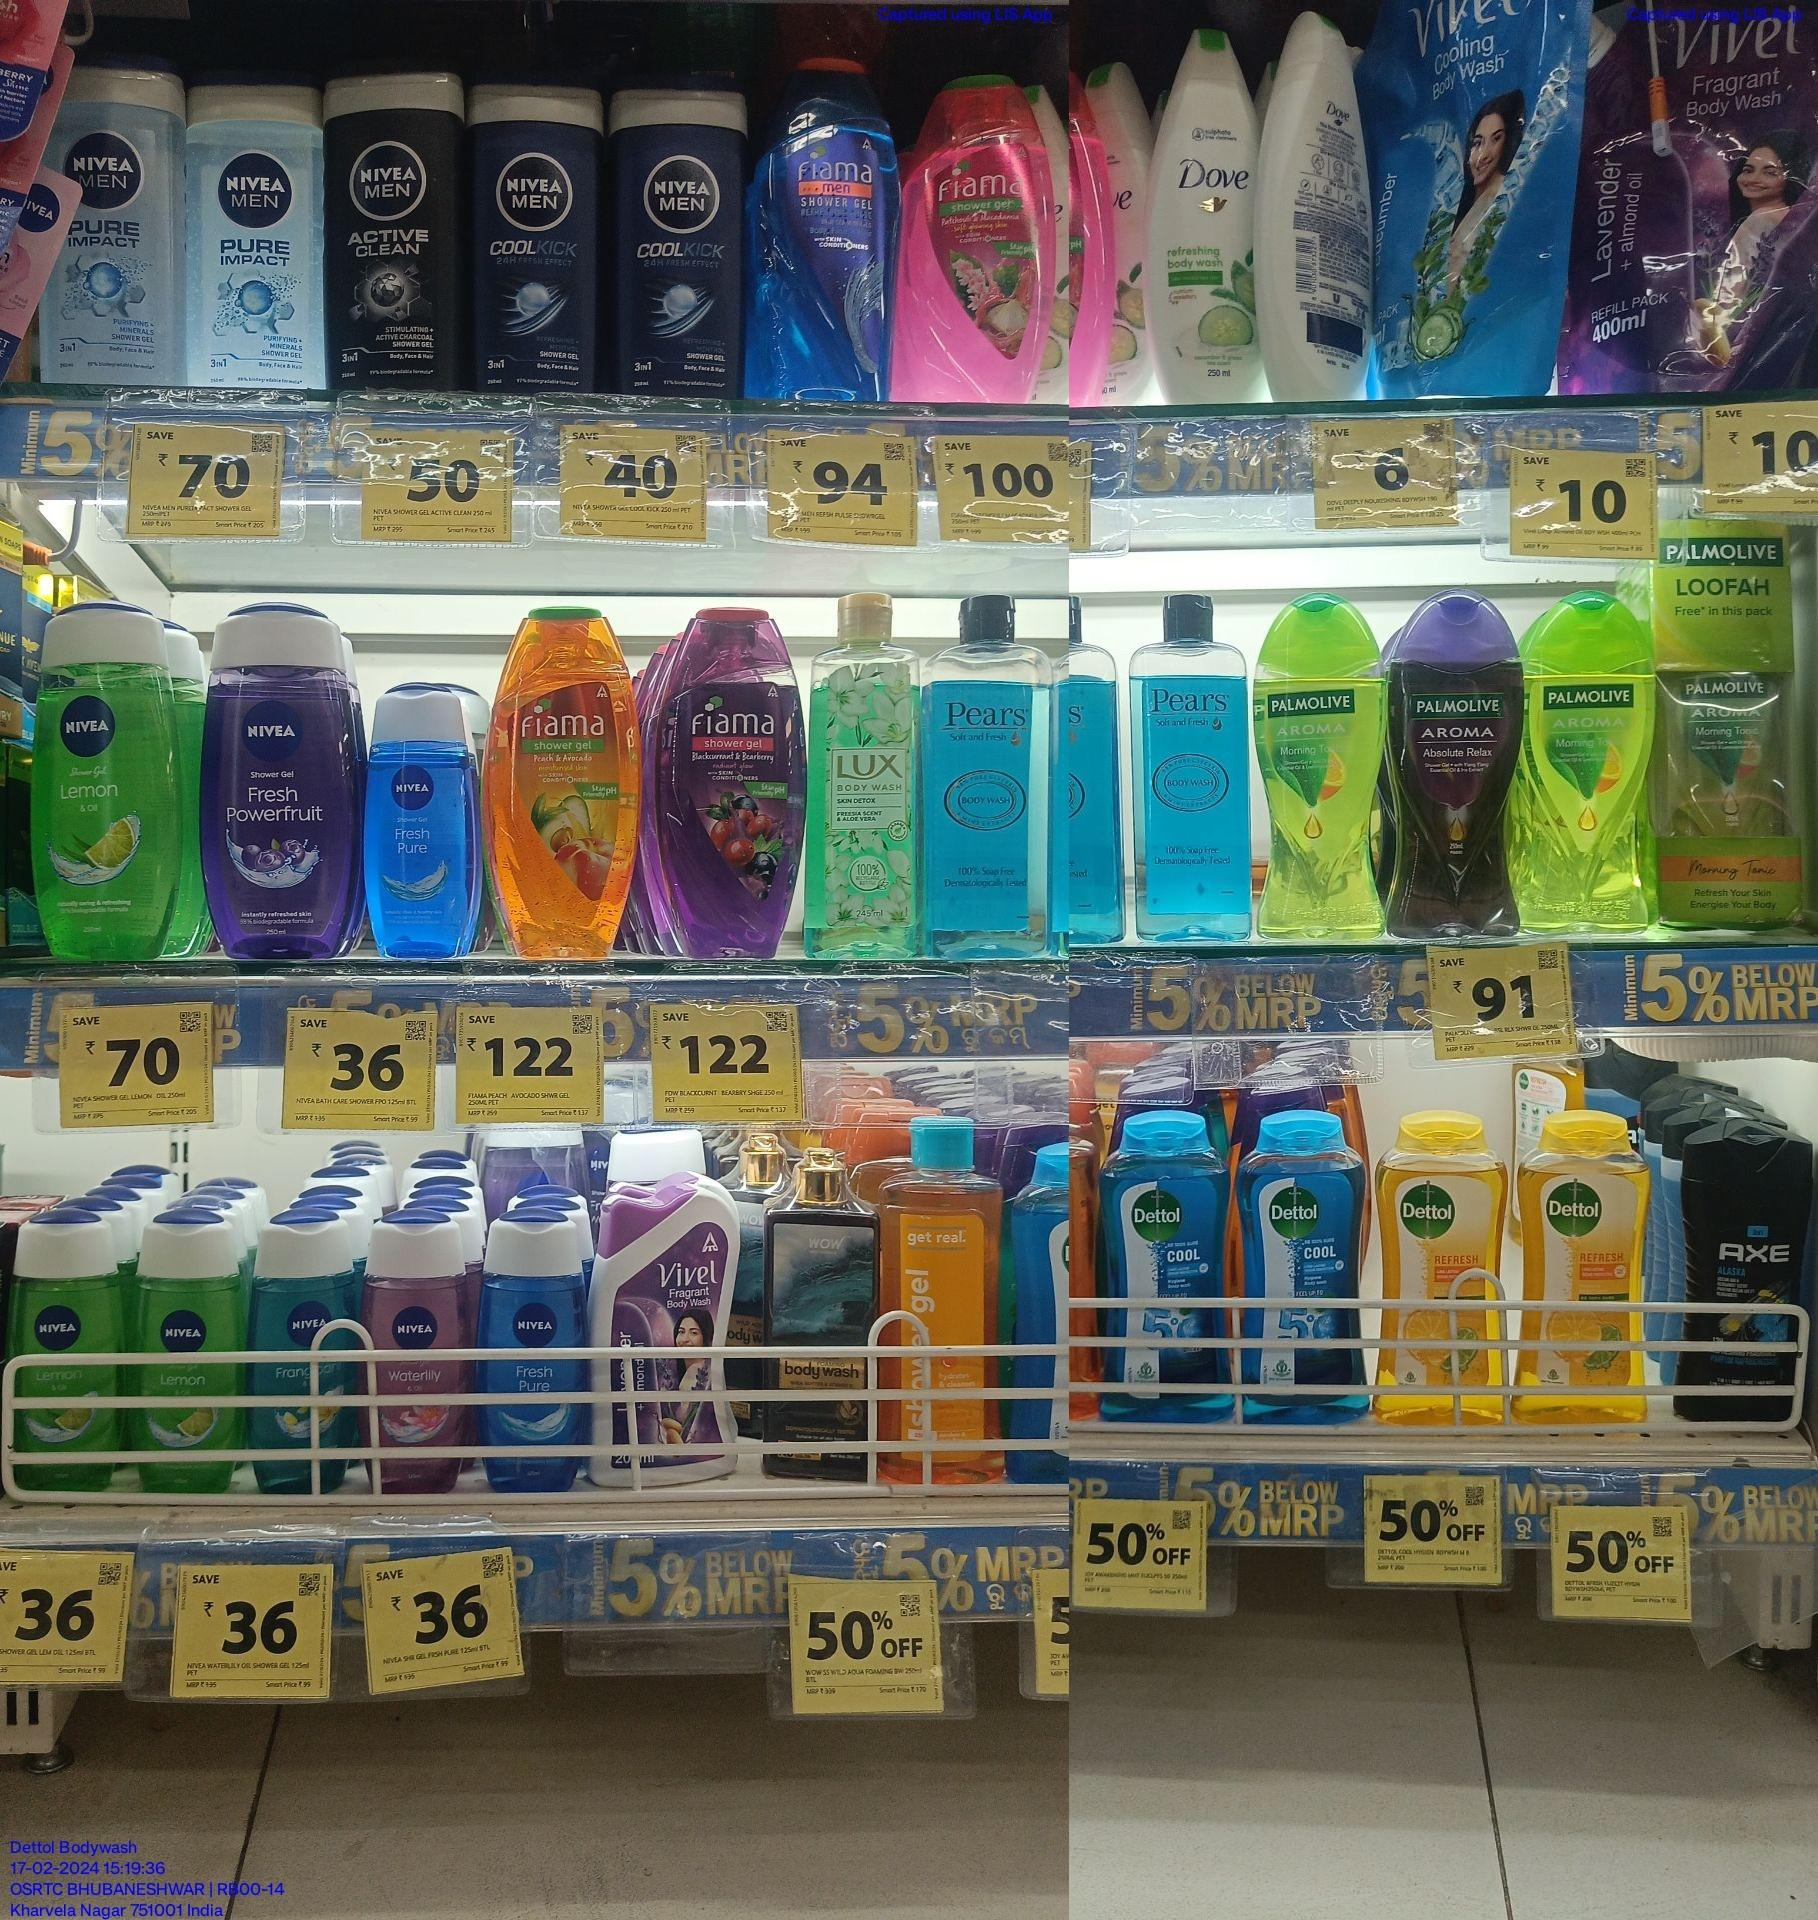Dettol_Bodywash_Cool: (1097, 1110, 1229, 1406), (1246, 1114, 1369, 1423)
Dettol_Bodywash_Refresh: (1377, 1115, 1510, 1431), (1522, 1112, 1651, 1425)
Dove_Refreshing_Body_Wash_250ML: (1150, 27, 1258, 396)
Fiama_Shower_Gel_Patchouli_and_Macadamia_250ML: (904, 68, 1047, 405)
Fiama_Shower_Gel_Peach_and_Avocado_250ML: (487, 606, 646, 960)
Lux_Body_Wash_Skin_Detox_Freesia_Scent_and_Alove_Vera_245ML: (806, 586, 918, 962)
Nivea_Shower_Gel_Fresh_Powerfruit_250ML: (203, 603, 357, 957)
Nivea_Shower_Gel_Lemon_and_Oil_250ML: (31, 600, 174, 955)
Palmolive_Aroma_Morning_Tonic_Shower_Gel_250ML: (1524, 586, 1649, 934), (1263, 594, 1389, 936)
Palmolive_Aroma_Relax_250ML: (1394, 584, 1521, 936)
Pears_Pure_Glycerin_and_Mint_Extracts_Body_Wash_250ML: (924, 594, 1054, 960), (1129, 594, 1261, 946)
